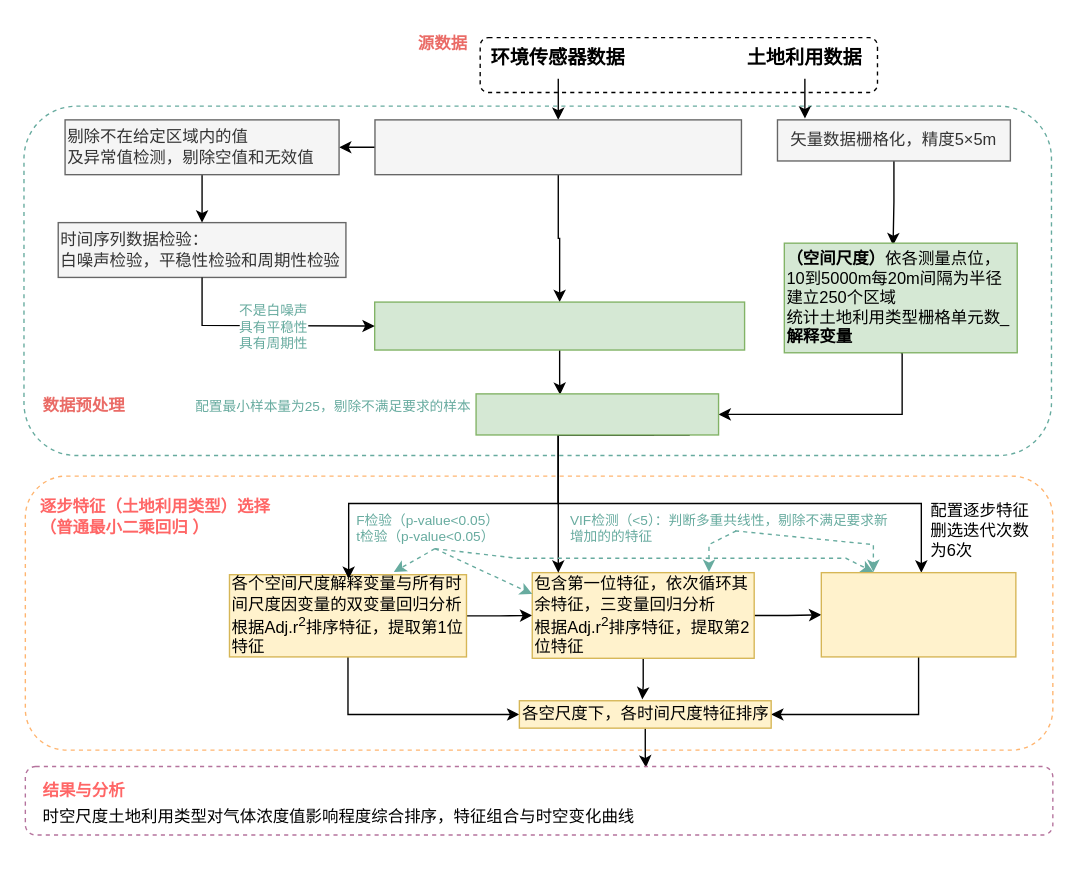
This 1077x869 diagram has some shape labels left out. The box of each missing label's shape, as (x1, y1, x2, y2) in pixels:
依测量点位匹配时空尺度数据: (475, 393, 719, 435)
包含前n个特征，依次循环其余特征，多元回归分析 根据Adj.r 2 排序特征，提取第n位特征: (820, 571, 1016, 657)
提取气体类时间序列测量值（浓度，ppm） 包括： CO ， H 2 S ， NO 2 ， O 3 ， SO 2 ， OG ， RG: (374, 119, 741, 175)
（时间尺度） 计算日，周、月、年气体浓度值时间周期均值样本类_ 因变量: (373, 301, 745, 350)
